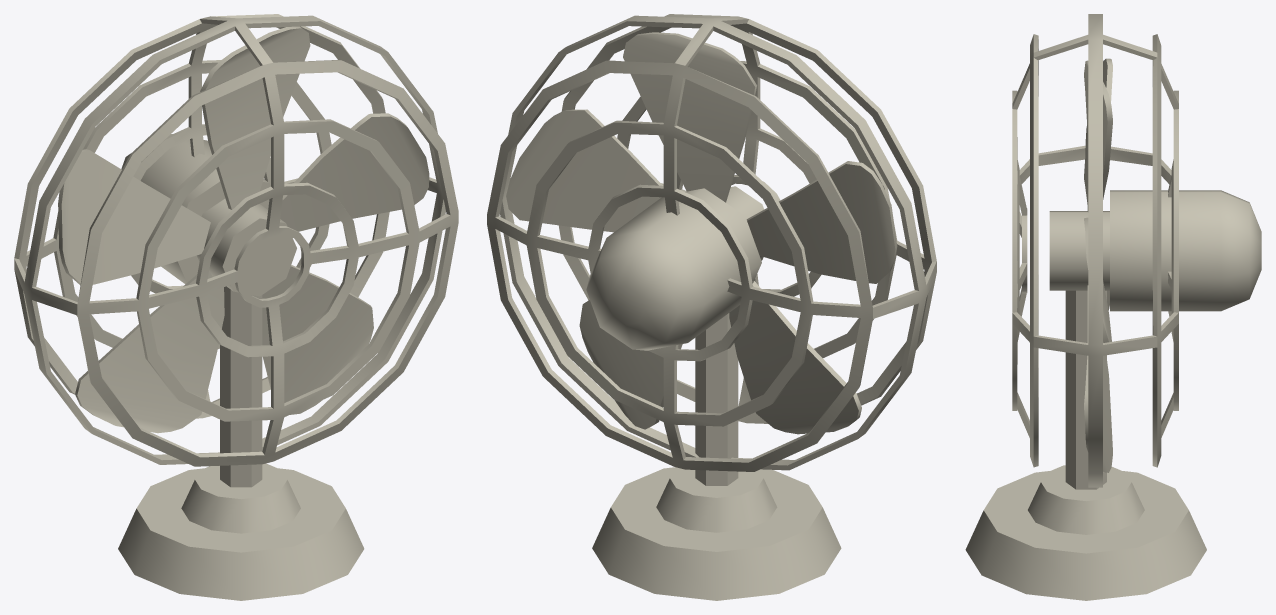
The model's file is Fan_01.fbx.
The picture shows the model from 3 angles, left to right: view 1: azimuth 30°, elevation 25°; view 2: azimuth 150°, elevation 25°; view 3: azimuth 270°, elevation 25°; orthographic projection. The views are drawn at different scales.
Parts seen in each view (by area): view 1: Fan_01; view 2: Fan_01; view 3: Fan_01.
Part boxes in pixels (x1,y1,x2,y2): Fan_01: (14, 14, 458, 600); Fan_01: (487, 14, 936, 600); Fan_01: (965, 14, 1261, 600).
Bounding box in the file's own units: 0.5318 × 0.6382 × 0.3339.
